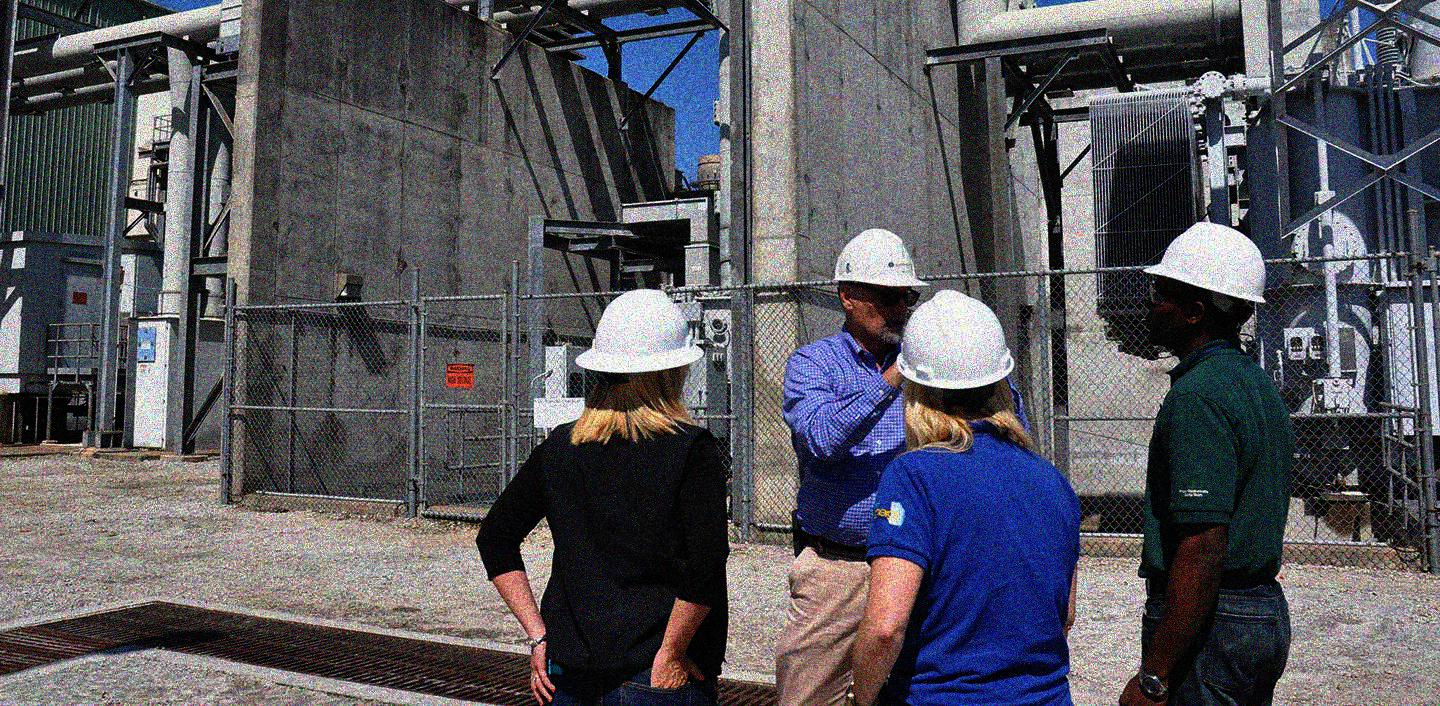helmet: (893, 287, 1021, 423), (1140, 220, 1267, 348), (574, 283, 705, 406), (828, 225, 931, 348)
